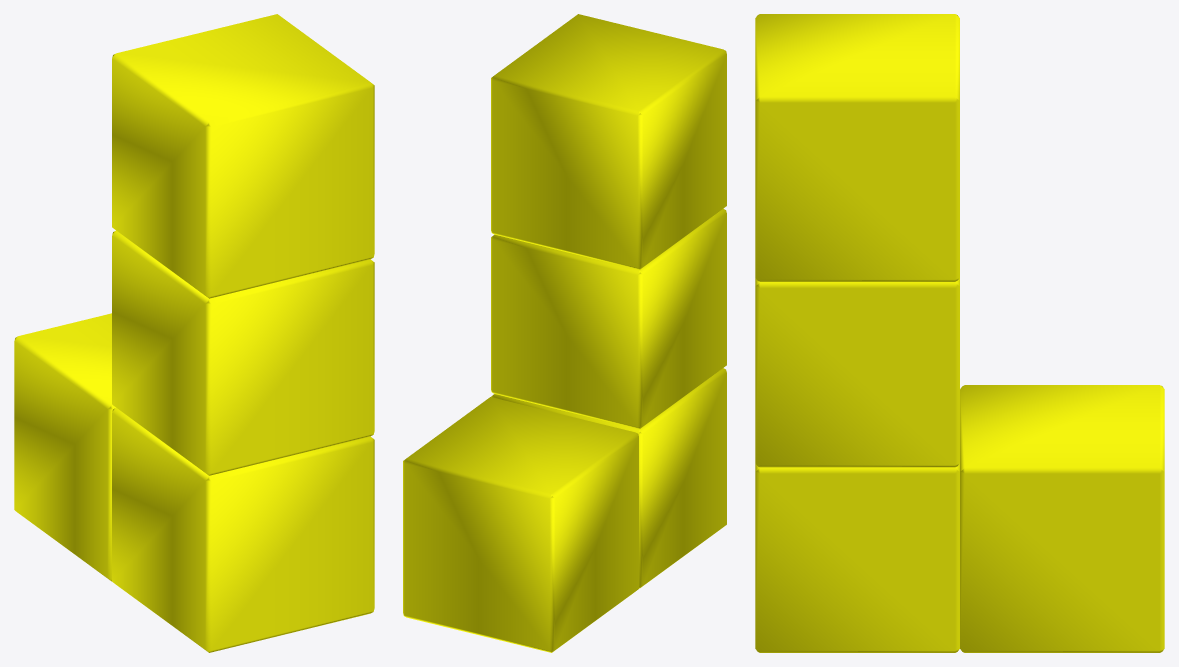
File: yellow_block_base_link.dae
3 views of the same model, side by side, from view 1: azimuth 30°, elevation 25°; view 2: azimuth 150°, elevation 25°; view 3: azimuth 270°, elevation 25° (orthographic). The views are drawn at different scales.
Visible parts, largest first — view 1: root (×4); view 2: root (×4); view 3: root (×4).
Boxes of the visible parts, x1,y1,x2,y2 form: root (×4): (14, 14, 374, 652); root (×4): (403, 14, 726, 652); root (×4): (755, 14, 1164, 652).
Bounding box in the file's own units: 0.03 × 0.09 × 0.06.
